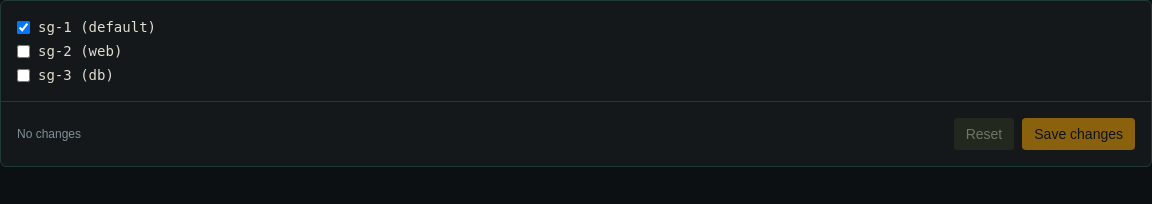
it: SecurityGroupsEditor › blocks submit when no security group is selected
The width and height of the screenshot is (1152, 204).
Click the checkbox named "Security group sg-1 (default)".
click(24, 27)  # box 17,20 -> 30,34
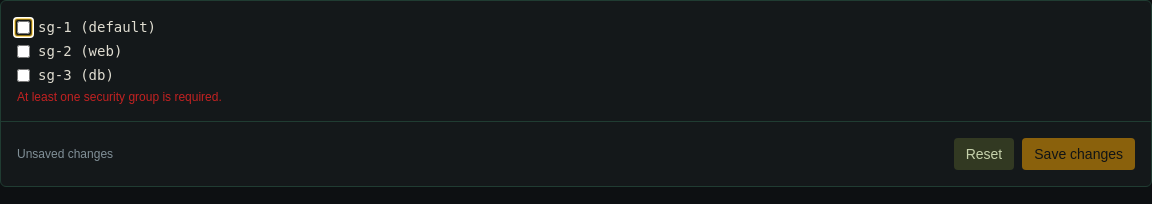
Expected: the button "Save changes" is disabled, 1022,138 -> 1135,170
Now the text "At least one security group is required." is shown, box 17,90 -> 222,104
